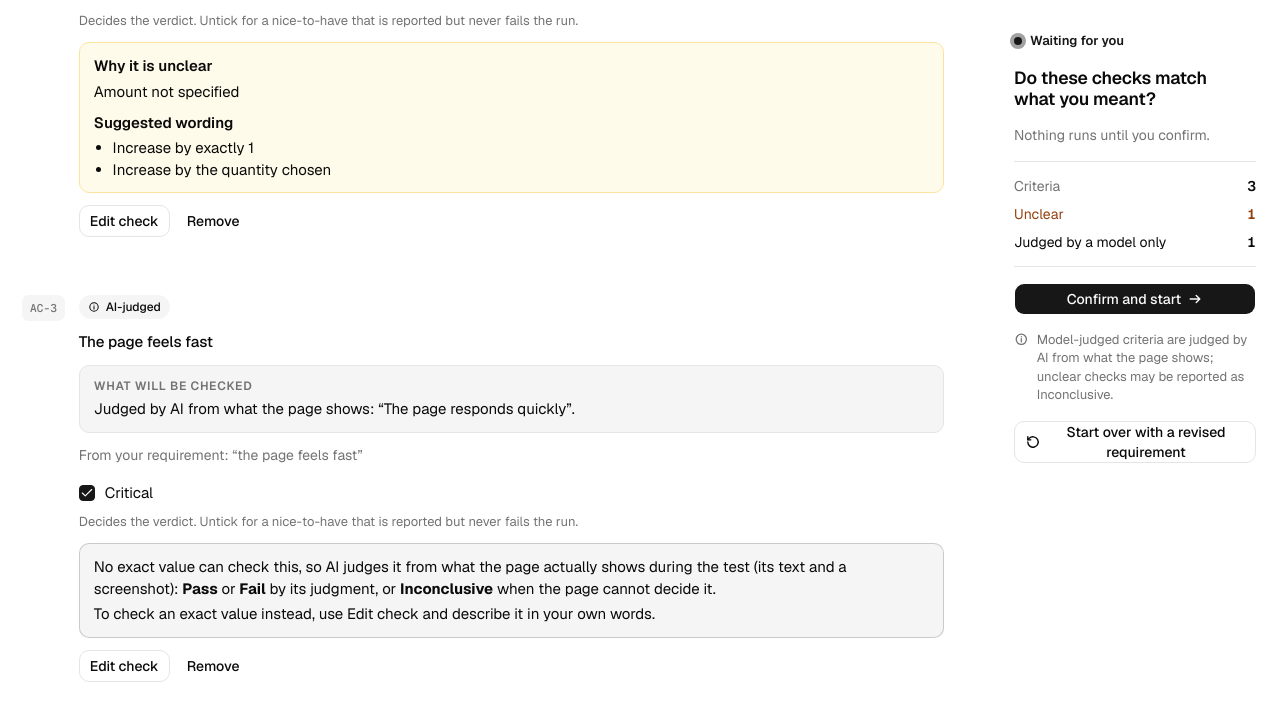
Test: CriteriaReview › an AI-judged criterion's editor takes the user's own words only (2026-11-19)
(page scrolled)
Click the button with aria-label "Edit check AC-3" at (124, 666), box x1=79 y1=650 x2=170 y2=682
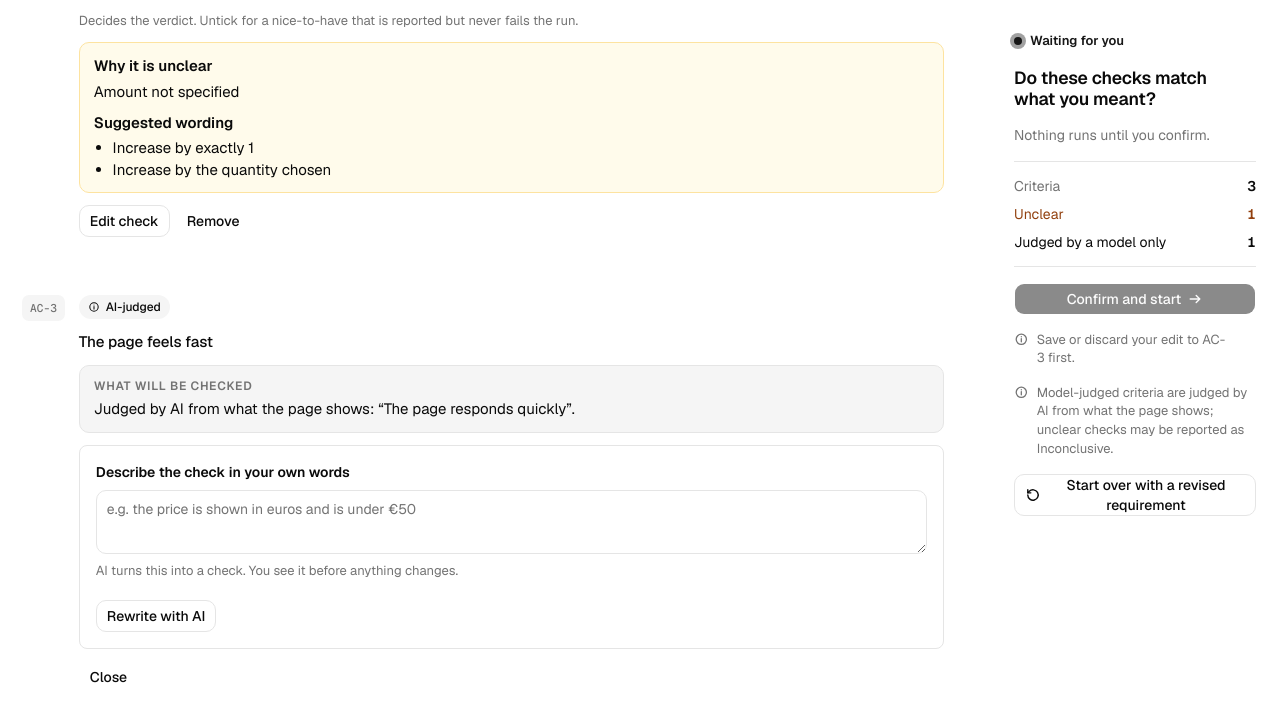
Expected: the text box labelled "Describe the check in your own words" is shown, x1=96 y1=490 x2=927 y2=554
Click the button "Close" at (108, 677), box x1=79 y1=661 x2=138 y2=693
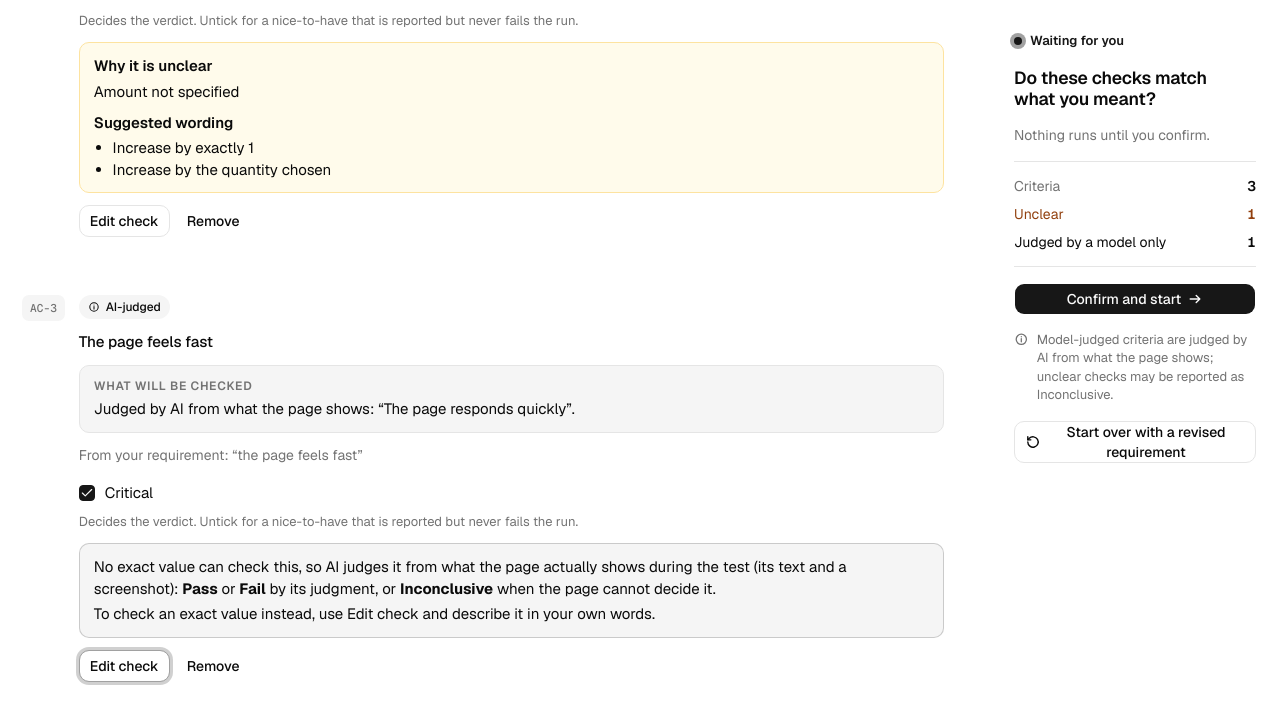
Expected: the button with aria-label "Remove AC-3" is shown, x1=176 y1=650 x2=250 y2=682
